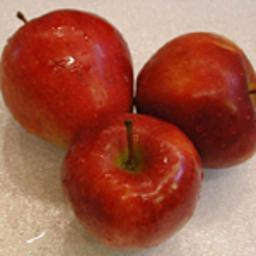apple: (1, 14, 136, 156), (62, 112, 202, 248), (135, 34, 256, 169)
